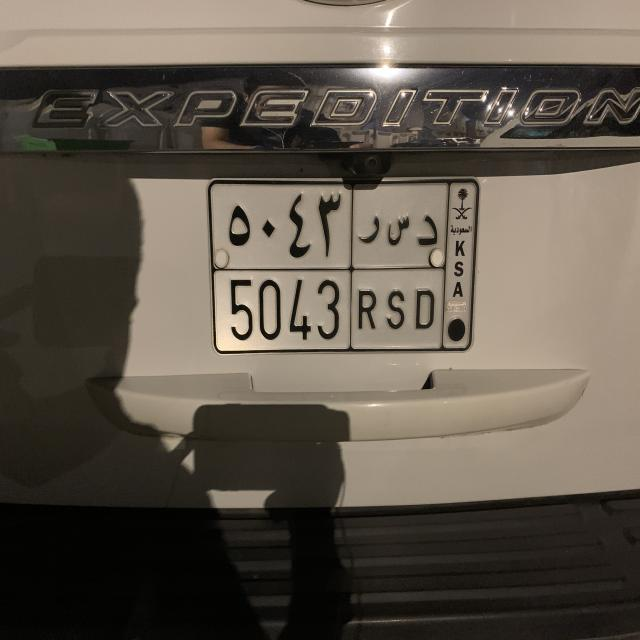license_plate: (204, 174, 483, 358)
